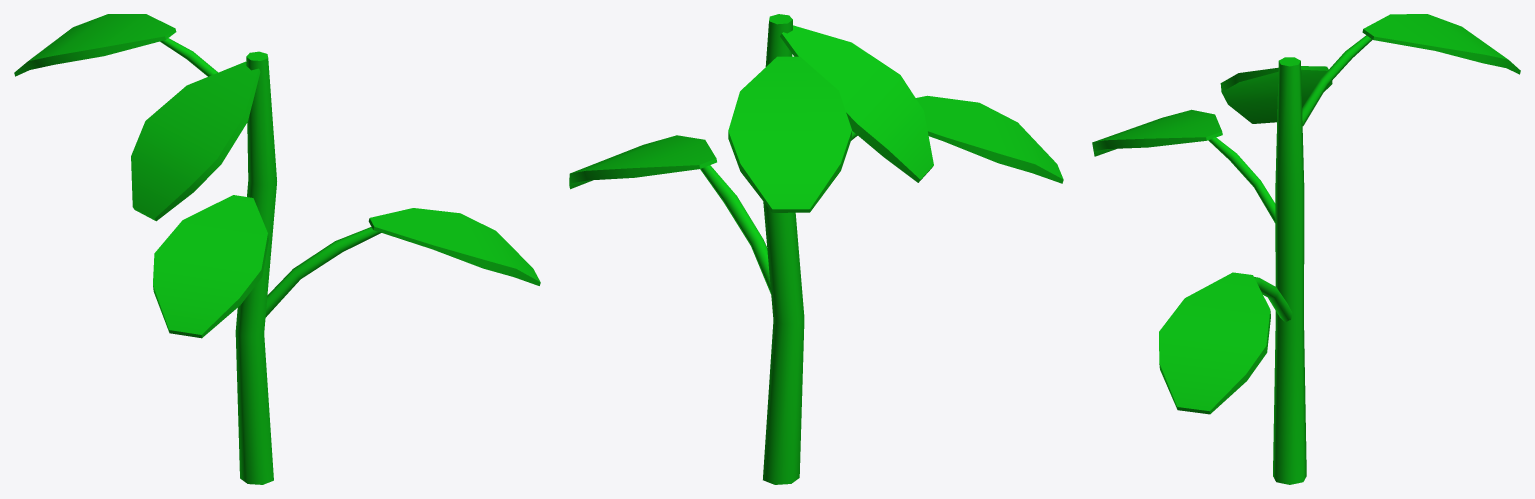
Rendered from Fidan.FBX.
3 renders of one model, left to right at view 1: azimuth 30°, elevation 25°; view 2: azimuth 150°, elevation 25°; view 3: azimuth 270°, elevation 25°, orthographic. The views are drawn at different scales.
Parts seen in each view (by area): view 1: Box002, Box004, Cylinder001, Box001, Box003, Cylinder002, Cylinder004; view 2: Box003, Cylinder001, Box004, Box002, Box001, Cylinder002; view 3: Cylinder001, Box001, Box003, Box004, Box002, Cylinder004, Cylinder003, Cylinder002.
Part boxes in pixels (bbox=[...]): Box002: bbox=[153, 195, 268, 338]; Box004: bbox=[131, 61, 260, 221]; Cylinder001: bbox=[235, 51, 276, 484]; Box001: bbox=[368, 208, 540, 285]; Box003: bbox=[14, 14, 176, 76]; Cylinder002: bbox=[265, 227, 381, 317]; Cylinder004: bbox=[160, 38, 217, 76]; Box003: bbox=[728, 56, 851, 212]; Cylinder001: bbox=[763, 14, 804, 484]; Box004: bbox=[780, 25, 933, 182]; Box002: bbox=[916, 95, 1063, 183]; Box001: bbox=[569, 135, 716, 189]; Cylinder002: bbox=[700, 165, 771, 294]; Cylinder001: bbox=[1273, 57, 1306, 484]; Box001: bbox=[1159, 272, 1270, 414]; Box003: bbox=[1362, 14, 1520, 74]; Box004: bbox=[1220, 66, 1332, 123]; Box002: bbox=[1092, 109, 1222, 156]; Cylinder004: bbox=[1302, 35, 1372, 125]; Cylinder003: bbox=[1208, 137, 1275, 222]; Cylinder002: bbox=[1254, 277, 1292, 322].
Size of the model in its own units: 30.46 by 30.41 by 27.99.
